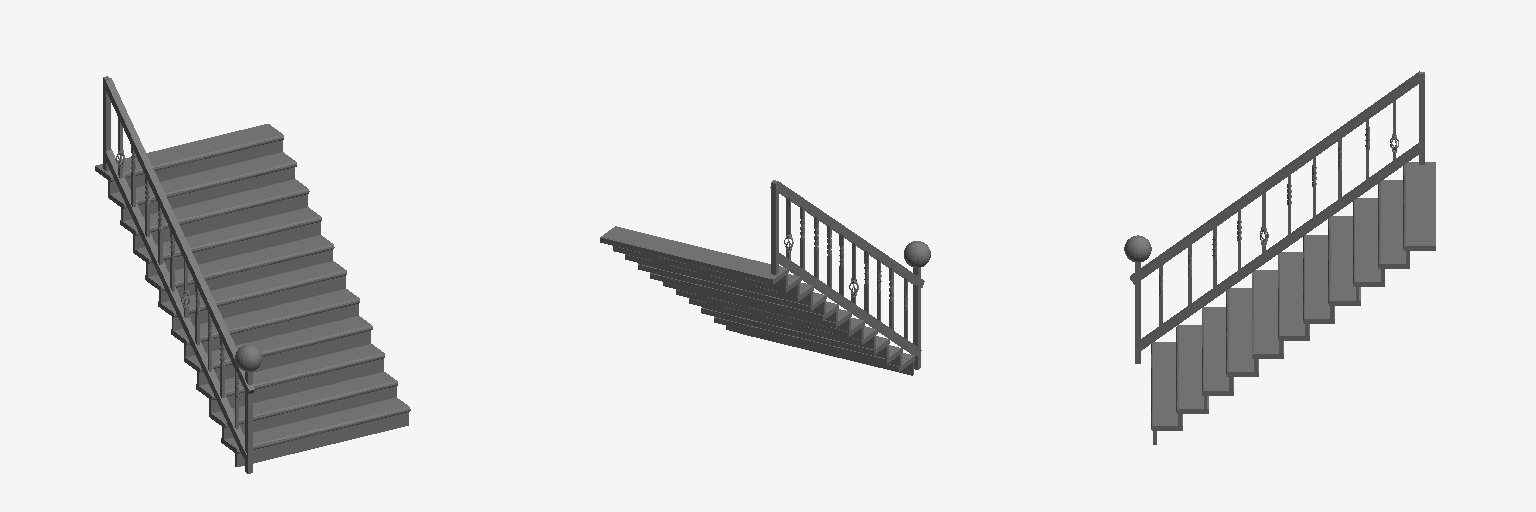
Rendered from stairs.obj.
3 views of the same model, side by side, from view 1: azimuth 30°, elevation 25°; view 2: azimuth 150°, elevation 25°; view 3: azimuth 270°, elevation 25° (orthographic).
Visible parts, largest first — view 1: uploads_files_21015_staircase:twistedpost_oldway_No1; view 2: uploads_files_21015_staircase:twistedpost_oldway_No1; view 3: uploads_files_21015_staircase:twistedpost_oldway_No1.
Boxes of the visible parts, x1=… form: uploads_files_21015_staircase:twistedpost_oldway_No1: x1=95, y1=76, x2=410, y2=473; uploads_files_21015_staircase:twistedpost_oldway_No1: x1=600, y1=180, x2=930, y2=375; uploads_files_21015_staircase:twistedpost_oldway_No1: x1=1124, y1=71, x2=1435, y2=444.
Bounding box in the file's own units: 3.49 × 5.38 × 5.22.